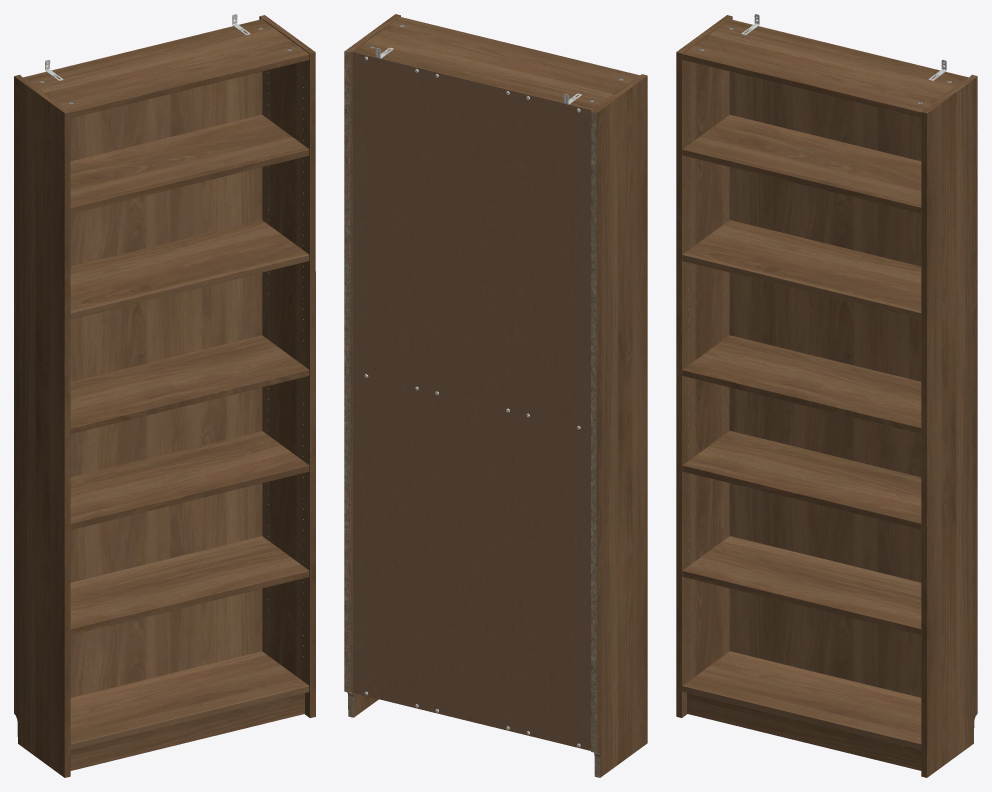
3 views of the same model, side by side, from view 1: azimuth 30°, elevation 25°; view 2: azimuth 150°, elevation 25°; view 3: azimuth 330°, elevation 25° (orthographic).
Visible parts, largest first — view 1: 50508652-BILLY001; view 2: 50508652-BILLY001; view 3: 50508652-BILLY001.
Part boxes in pixels (x1,y1,x2,y2): 50508652-BILLY001: [14, 14, 315, 777]; 50508652-BILLY001: [344, 14, 647, 777]; 50508652-BILLY001: [676, 14, 977, 777].
Bounding box in the file's own units: 0.7981 × 2.05 × 0.2795.
1 material, 1 textured.
